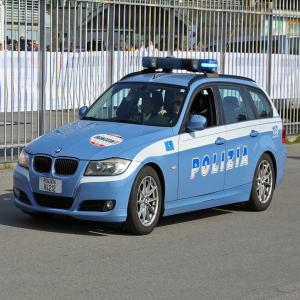Vehicle-registration-plate: (40, 179, 63, 195)
